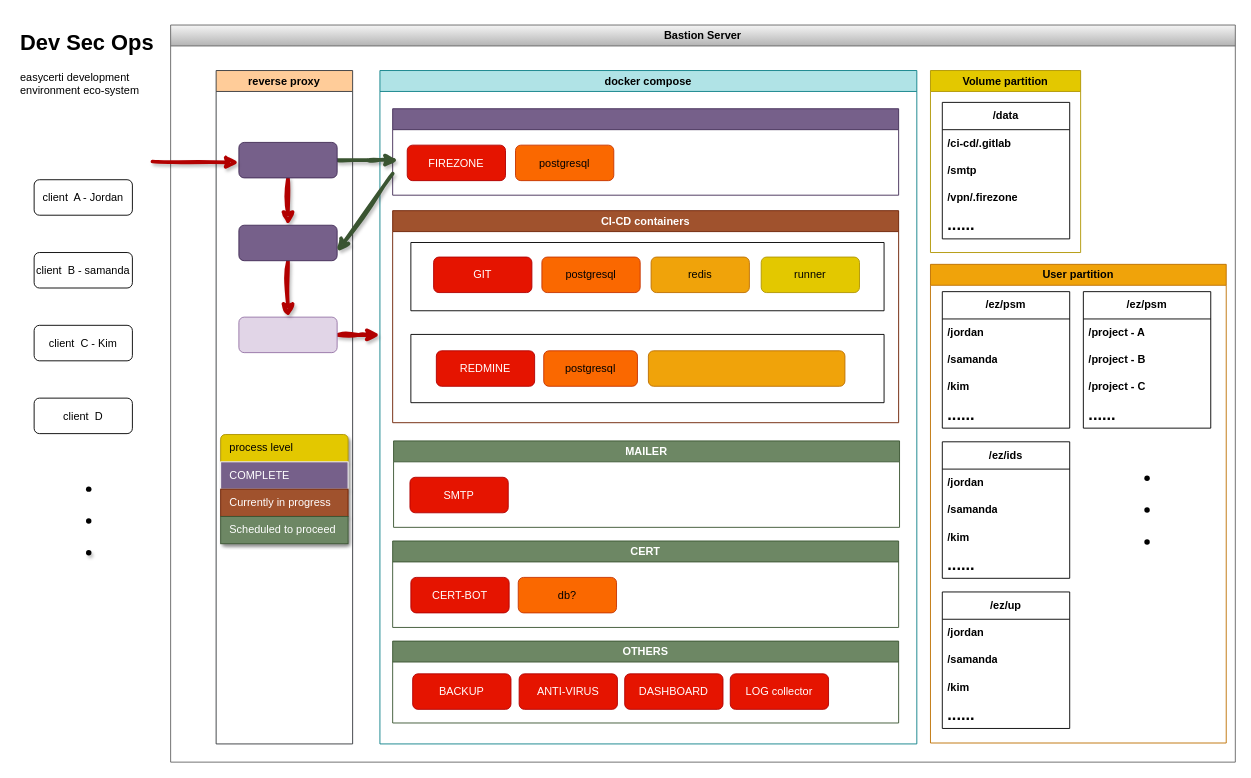
Image size: 1251x778. Some labels were removed from this diagram. Each missing label, with the centre of its shape:
CADDY / firezone: the point at 287,160
CADDY / others container: the point at 287,334
scheduler -> gantt , bot: the point at 746,368
VPN: the point at 287,242
VPN containers: the point at 645,151
